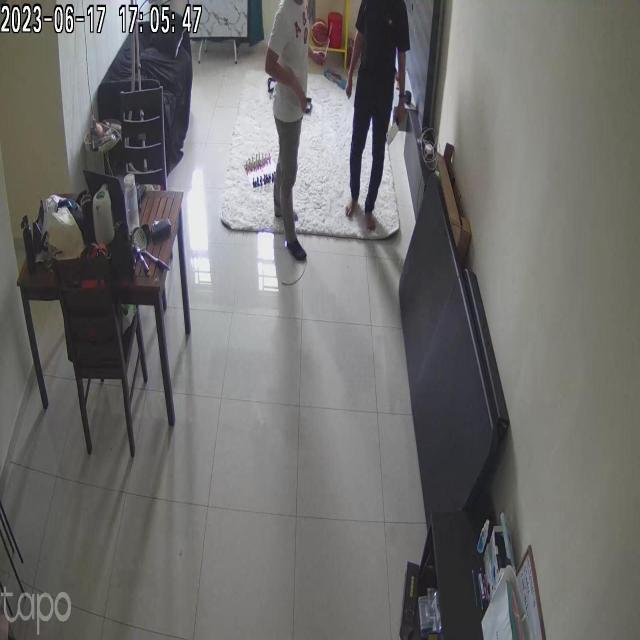Knife: (382, 112, 406, 146)
